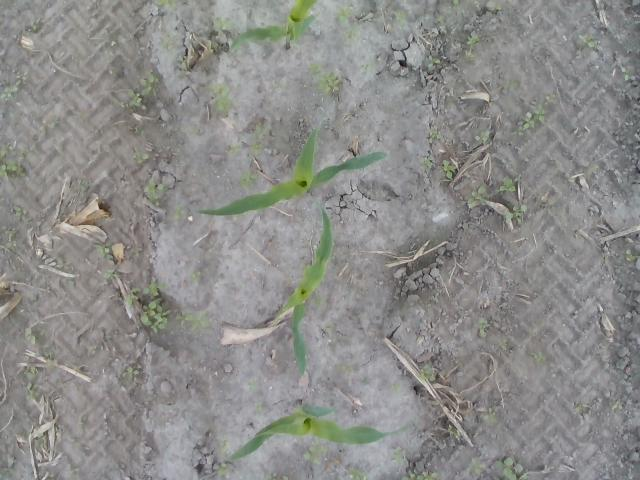Maize: (197, 128, 389, 218), (226, 398, 408, 462), (280, 204, 336, 376), (229, 0, 319, 54)
Weeds: (126, 282, 170, 334), (112, 66, 162, 110), (512, 94, 554, 138), (306, 61, 342, 96), (336, 0, 362, 46), (207, 78, 236, 112), (15, 366, 41, 401), (494, 455, 528, 480), (142, 178, 169, 208), (384, 0, 409, 32), (174, 309, 210, 330), (303, 440, 329, 465), (0, 222, 17, 255), (467, 184, 490, 208), (0, 160, 26, 181), (503, 204, 528, 225), (248, 126, 266, 155), (22, 327, 50, 345), (398, 468, 438, 480), (463, 456, 488, 475), (172, 202, 190, 226), (496, 175, 516, 194), (94, 242, 115, 260), (157, 31, 176, 50), (132, 145, 150, 164), (14, 206, 33, 224), (346, 466, 368, 480), (472, 127, 490, 144), (309, 288, 327, 305), (214, 16, 234, 31), (322, 319, 336, 340), (619, 64, 636, 81), (0, 86, 18, 102), (0, 458, 16, 476), (392, 446, 408, 464), (120, 367, 140, 381), (480, 407, 496, 424), (419, 362, 433, 381), (442, 160, 456, 179), (496, 78, 520, 89), (478, 316, 490, 338), (153, 0, 177, 11), (425, 127, 441, 143), (224, 144, 240, 160), (416, 156, 434, 170), (466, 30, 480, 48), (0, 142, 14, 160), (578, 33, 594, 48), (216, 464, 232, 479), (239, 174, 256, 188), (176, 54, 188, 72), (497, 336, 512, 350), (623, 249, 639, 262), (15, 71, 28, 86), (69, 464, 81, 480), (433, 14, 446, 28), (448, 424, 461, 438), (336, 363, 354, 373), (34, 432, 44, 449), (130, 246, 144, 258), (463, 50, 476, 62), (102, 270, 115, 282), (533, 351, 545, 364), (426, 55, 440, 66), (359, 63, 376, 72), (30, 18, 40, 33), (80, 184, 93, 194), (128, 128, 144, 136), (222, 438, 230, 454), (246, 380, 257, 391), (612, 400, 624, 410), (264, 472, 278, 480), (49, 118, 60, 128), (56, 255, 64, 268), (591, 164, 600, 175), (207, 40, 214, 53), (450, 0, 460, 9), (574, 404, 583, 414), (20, 431, 32, 438), (191, 270, 200, 279), (86, 345, 96, 353), (391, 384, 401, 392), (48, 352, 56, 361), (276, 199, 288, 205), (254, 404, 263, 412), (46, 473, 56, 480), (362, 376, 369, 386), (191, 127, 199, 135), (282, 303, 290, 311), (494, 3, 503, 10), (446, 8, 452, 16)
